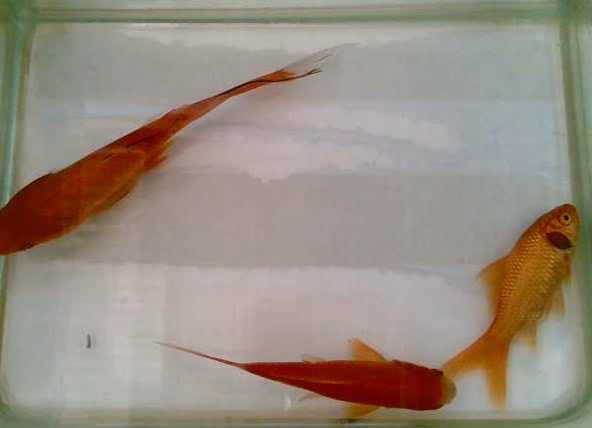alive_fish: (1, 41, 339, 265), (150, 314, 461, 428)
dead_fish: (435, 197, 584, 423)
